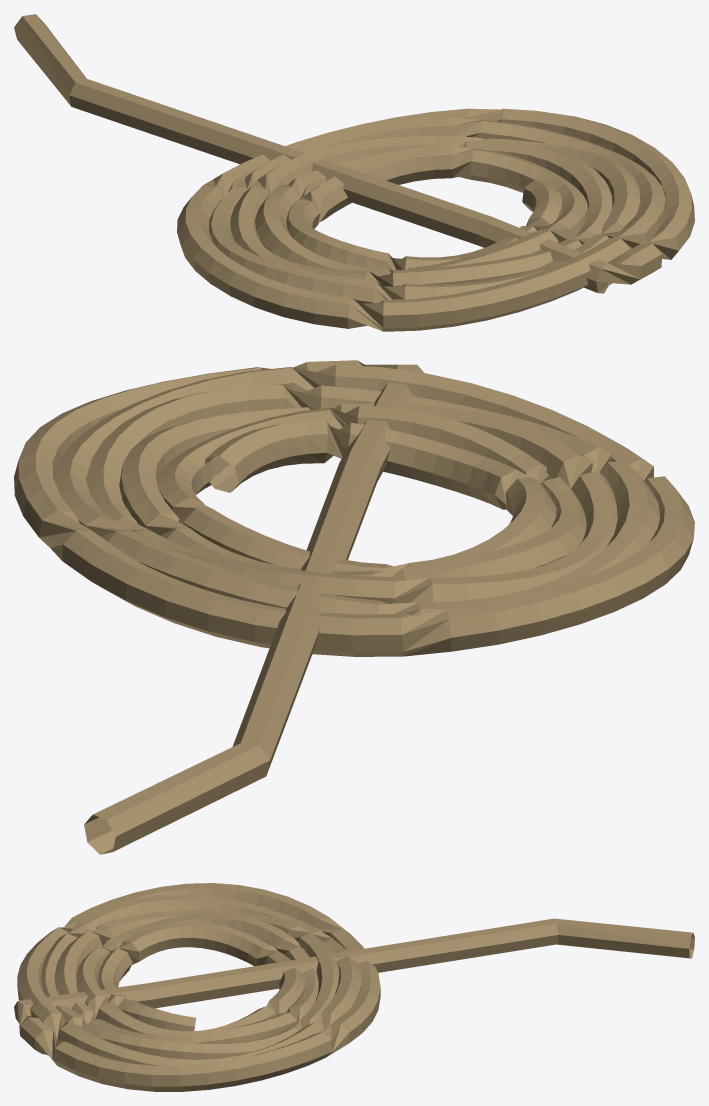
The model's file is laid_line.glb.
3 views of the same model, one above another, from view 1: azimuth 30°, elevation 25°; view 2: azimuth 150°, elevation 25°; view 3: azimuth 270°, elevation 25° (orthographic). The views are drawn at different scales.
Parts seen in each view (by area): view 1: laid_line; view 2: laid_line; view 3: laid_line.
Part boxes in pixels (x1,y1,x2,y2): laid_line: [14, 14, 694, 331]; laid_line: [14, 360, 694, 854]; laid_line: [14, 883, 694, 1091].
Size of the model in its own units: 0.4559 by 0.038 by 0.6975.
